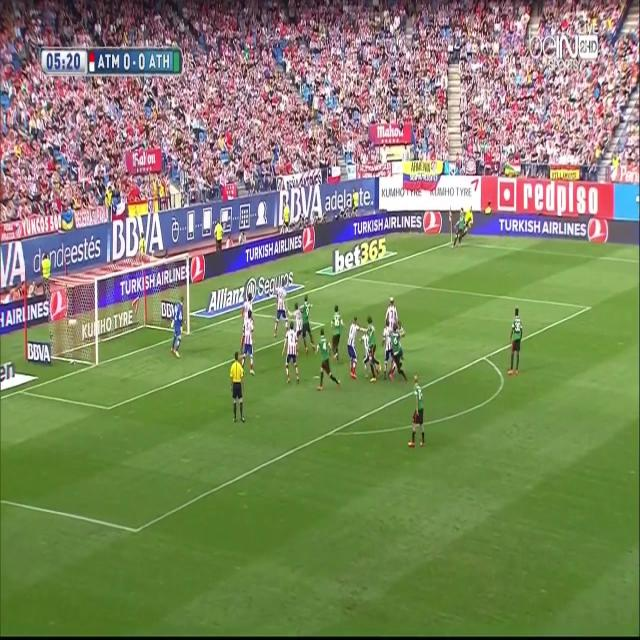Goalkeeper: (171, 296, 184, 359)
Player: (314, 326, 341, 396), (406, 374, 427, 452), (506, 306, 525, 378), (240, 309, 258, 379), (367, 313, 384, 380), (282, 325, 300, 386), (346, 314, 362, 382), (302, 295, 317, 356), (274, 278, 288, 340), (392, 322, 406, 383), (330, 302, 344, 362), (380, 317, 395, 373), (286, 300, 304, 340), (357, 330, 372, 378), (452, 206, 465, 249), (385, 293, 400, 328)
Referee: (227, 348, 246, 425), (465, 204, 477, 231)
